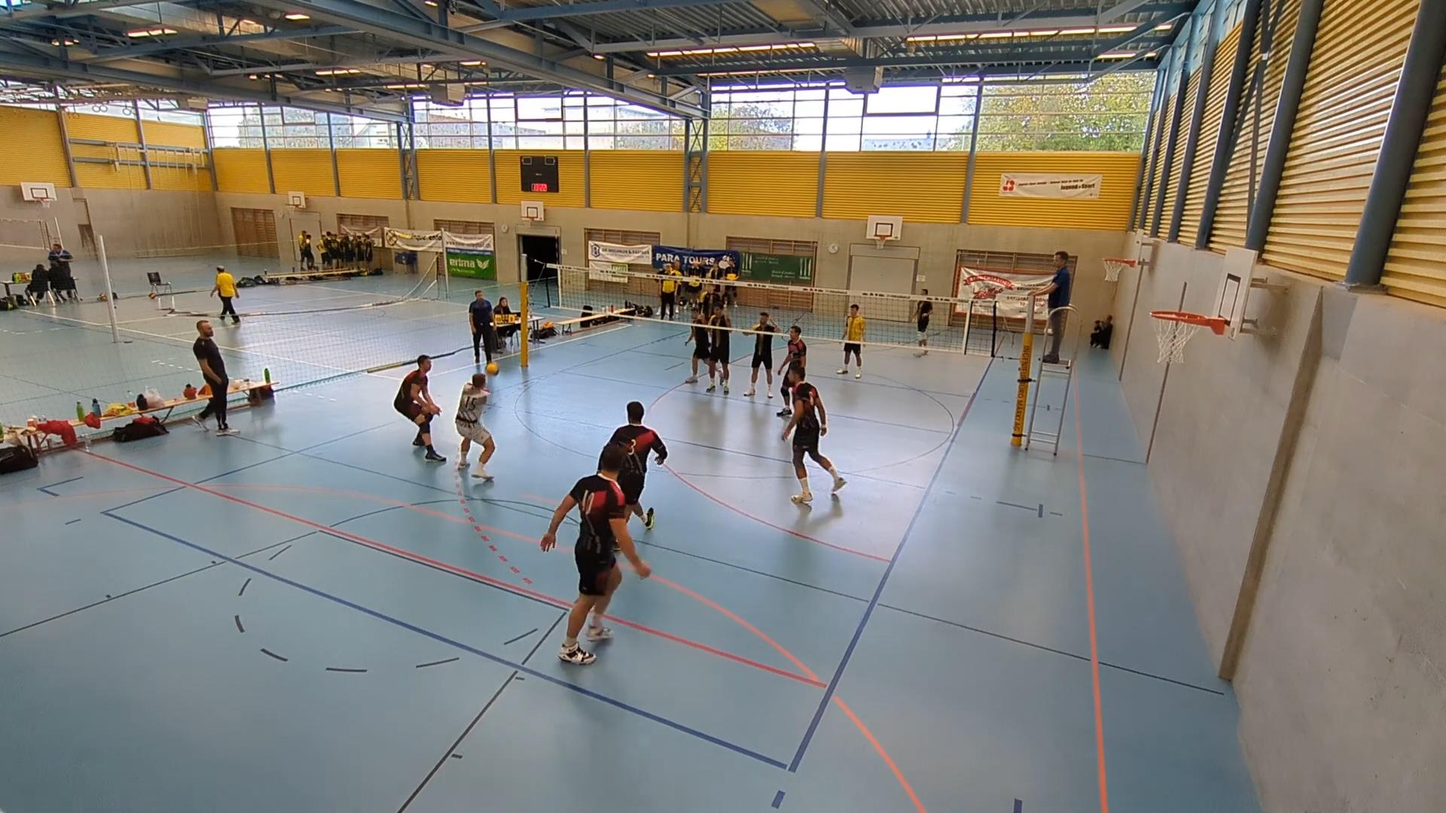ricezione: (453, 371, 501, 484)
